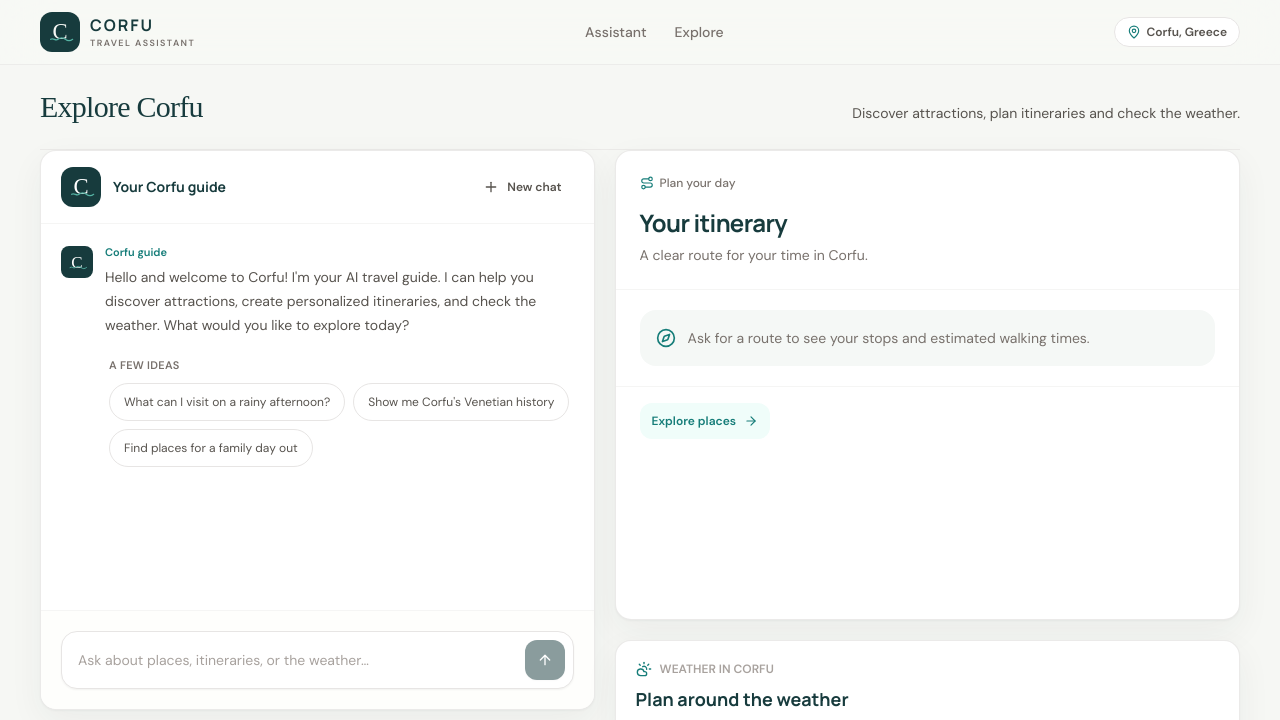
Corfu assistant API integration › renders grounded recommendations as photo cards without technical labels or IDs
In the text box named "Message your Corfu guide": point(293, 660) x1=70 y1=640 x2=517 y2=680, type "Recommend a historic place"
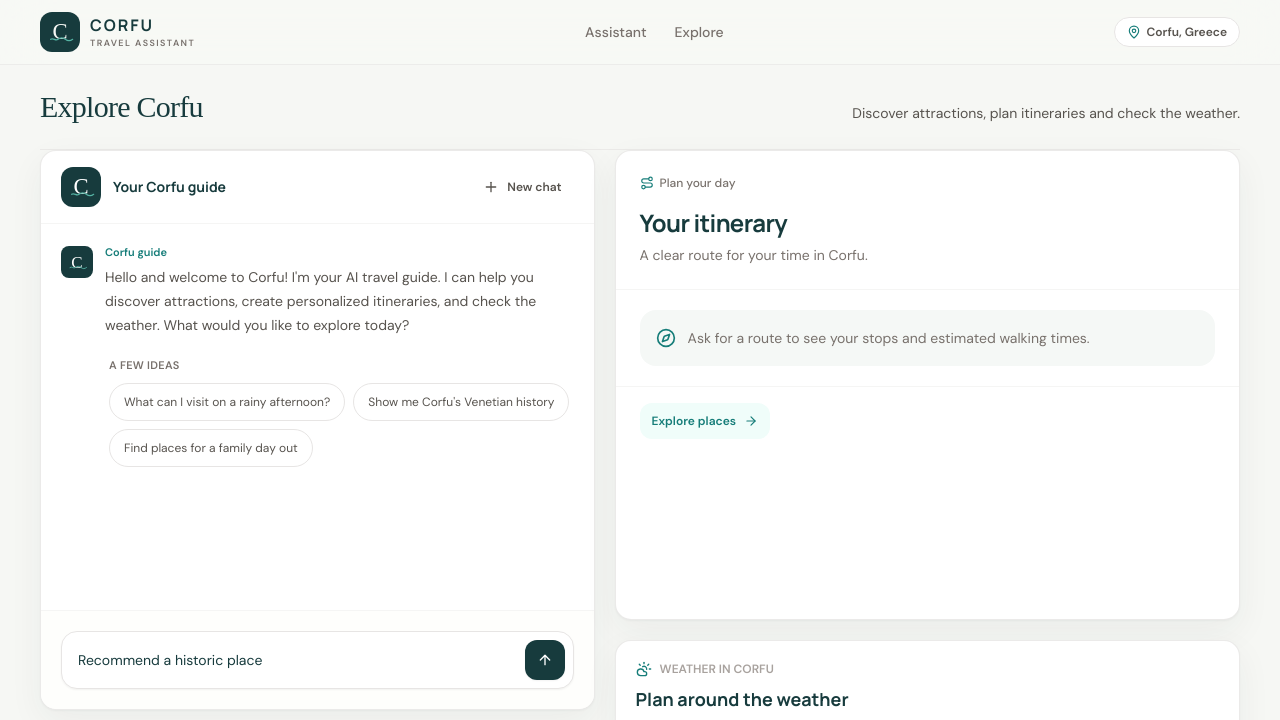
Now the button named "Send message" is enabled
Click the button named "Send message": point(545, 660) x1=525 y1=640 x2=565 y2=680
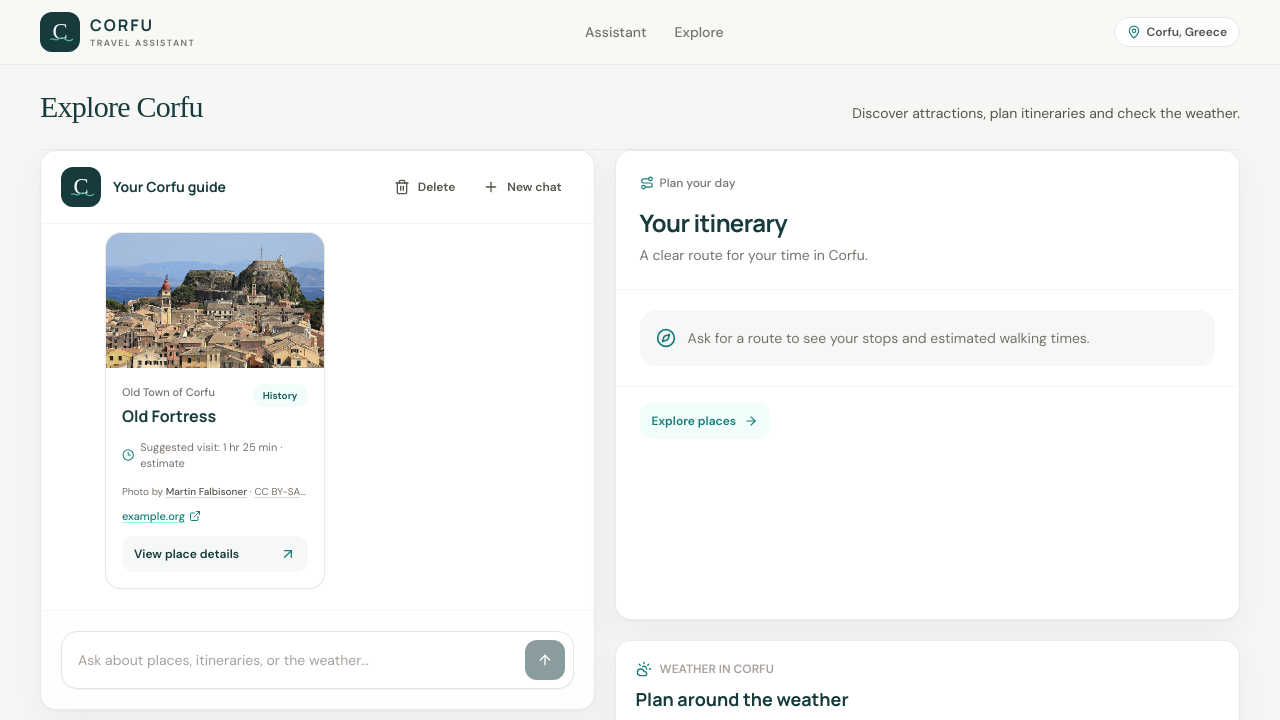
Now the heading "Old Fortress" is shown, box x1=122 y1=405 x2=216 y2=427
